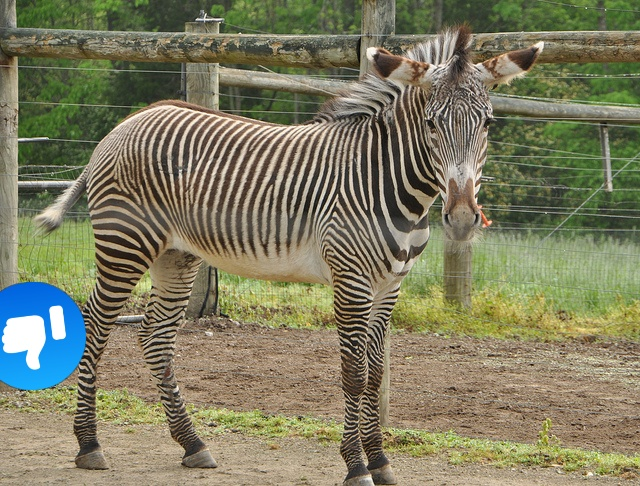like: (0, 282, 86, 390)
